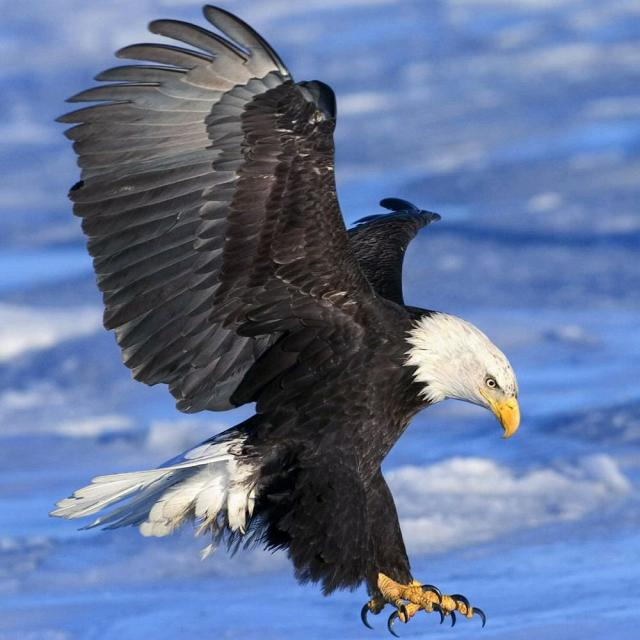Eagle: (85, 13, 525, 625)
